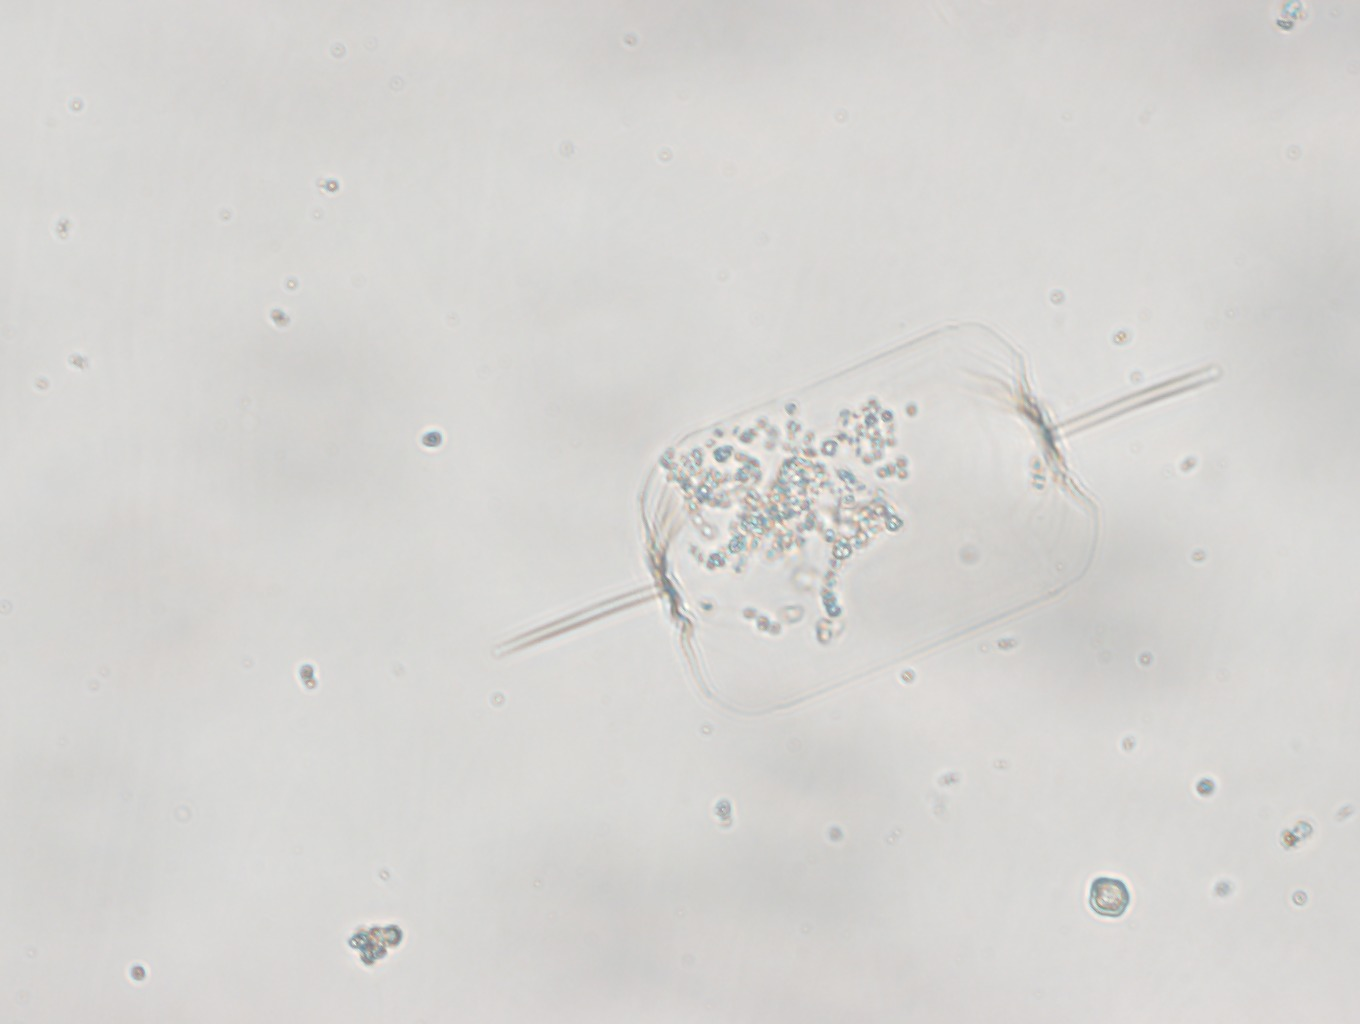ditylum: (426, 315, 1225, 720)
